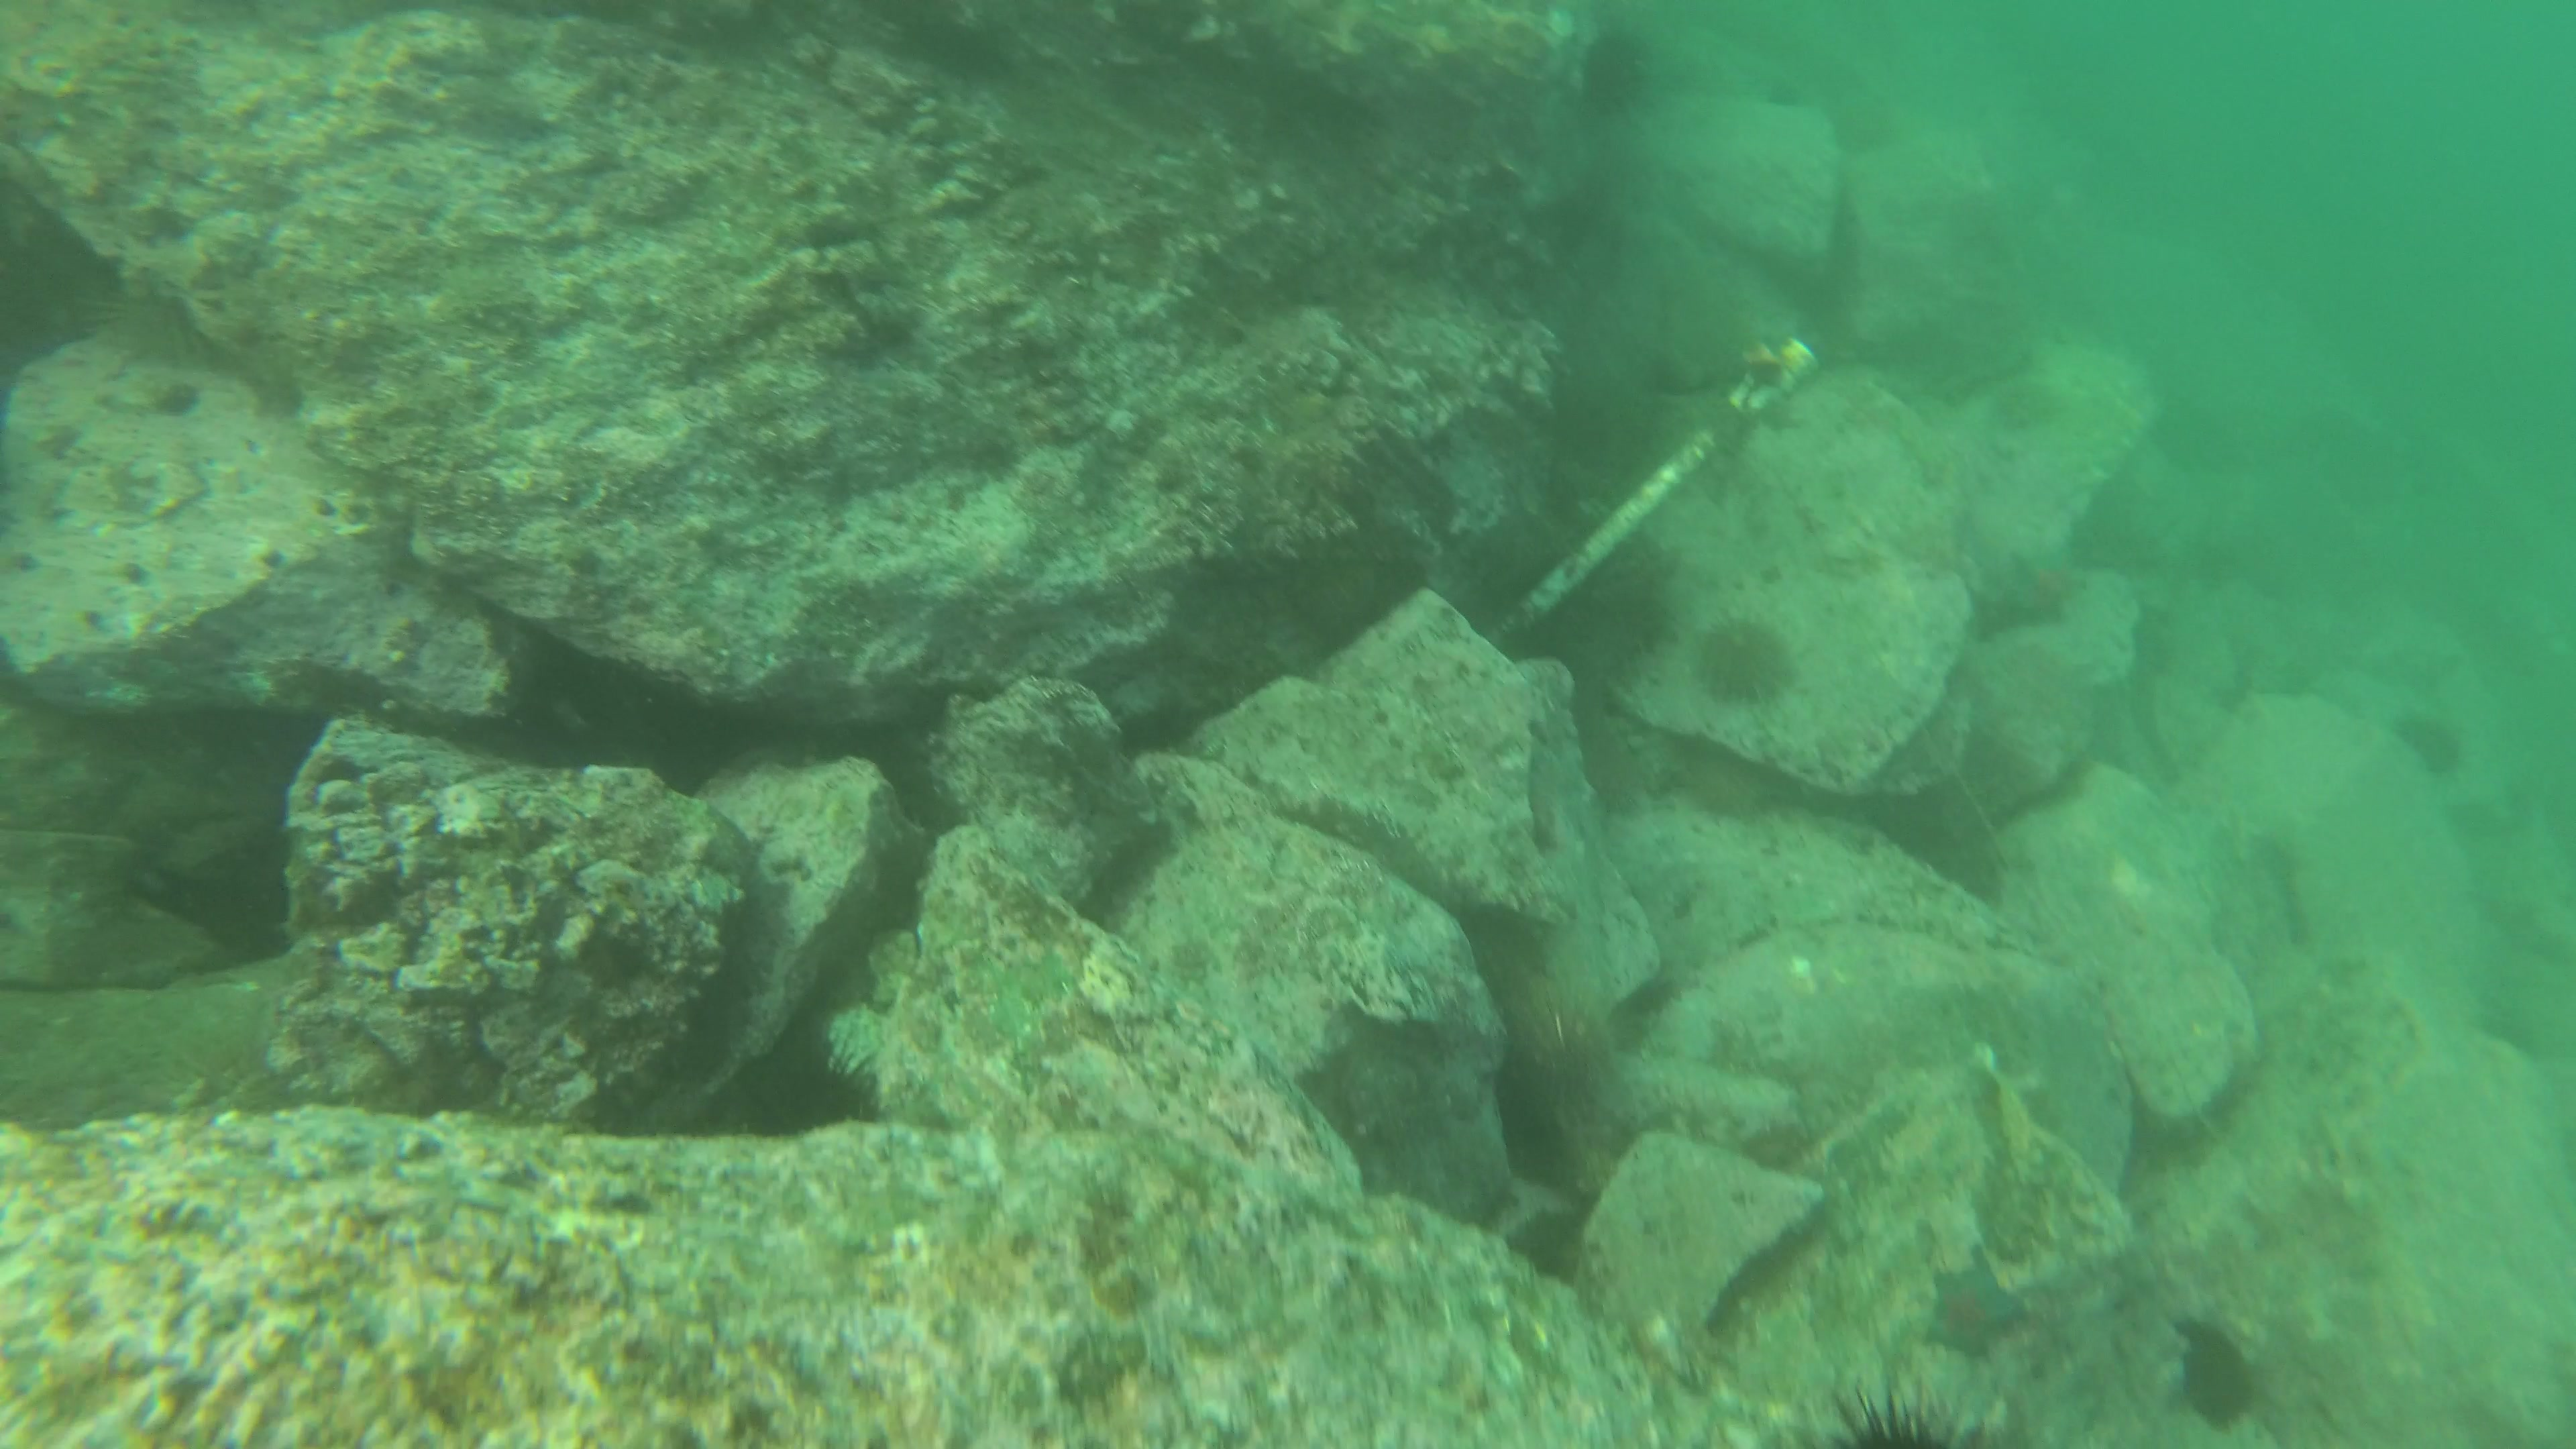echinus: (1815, 1362, 2006, 1449), (1507, 993, 1612, 1111), (1591, 552, 1677, 676), (2167, 1315, 2254, 1438), (1698, 610, 1805, 708), (2388, 695, 2465, 784)
